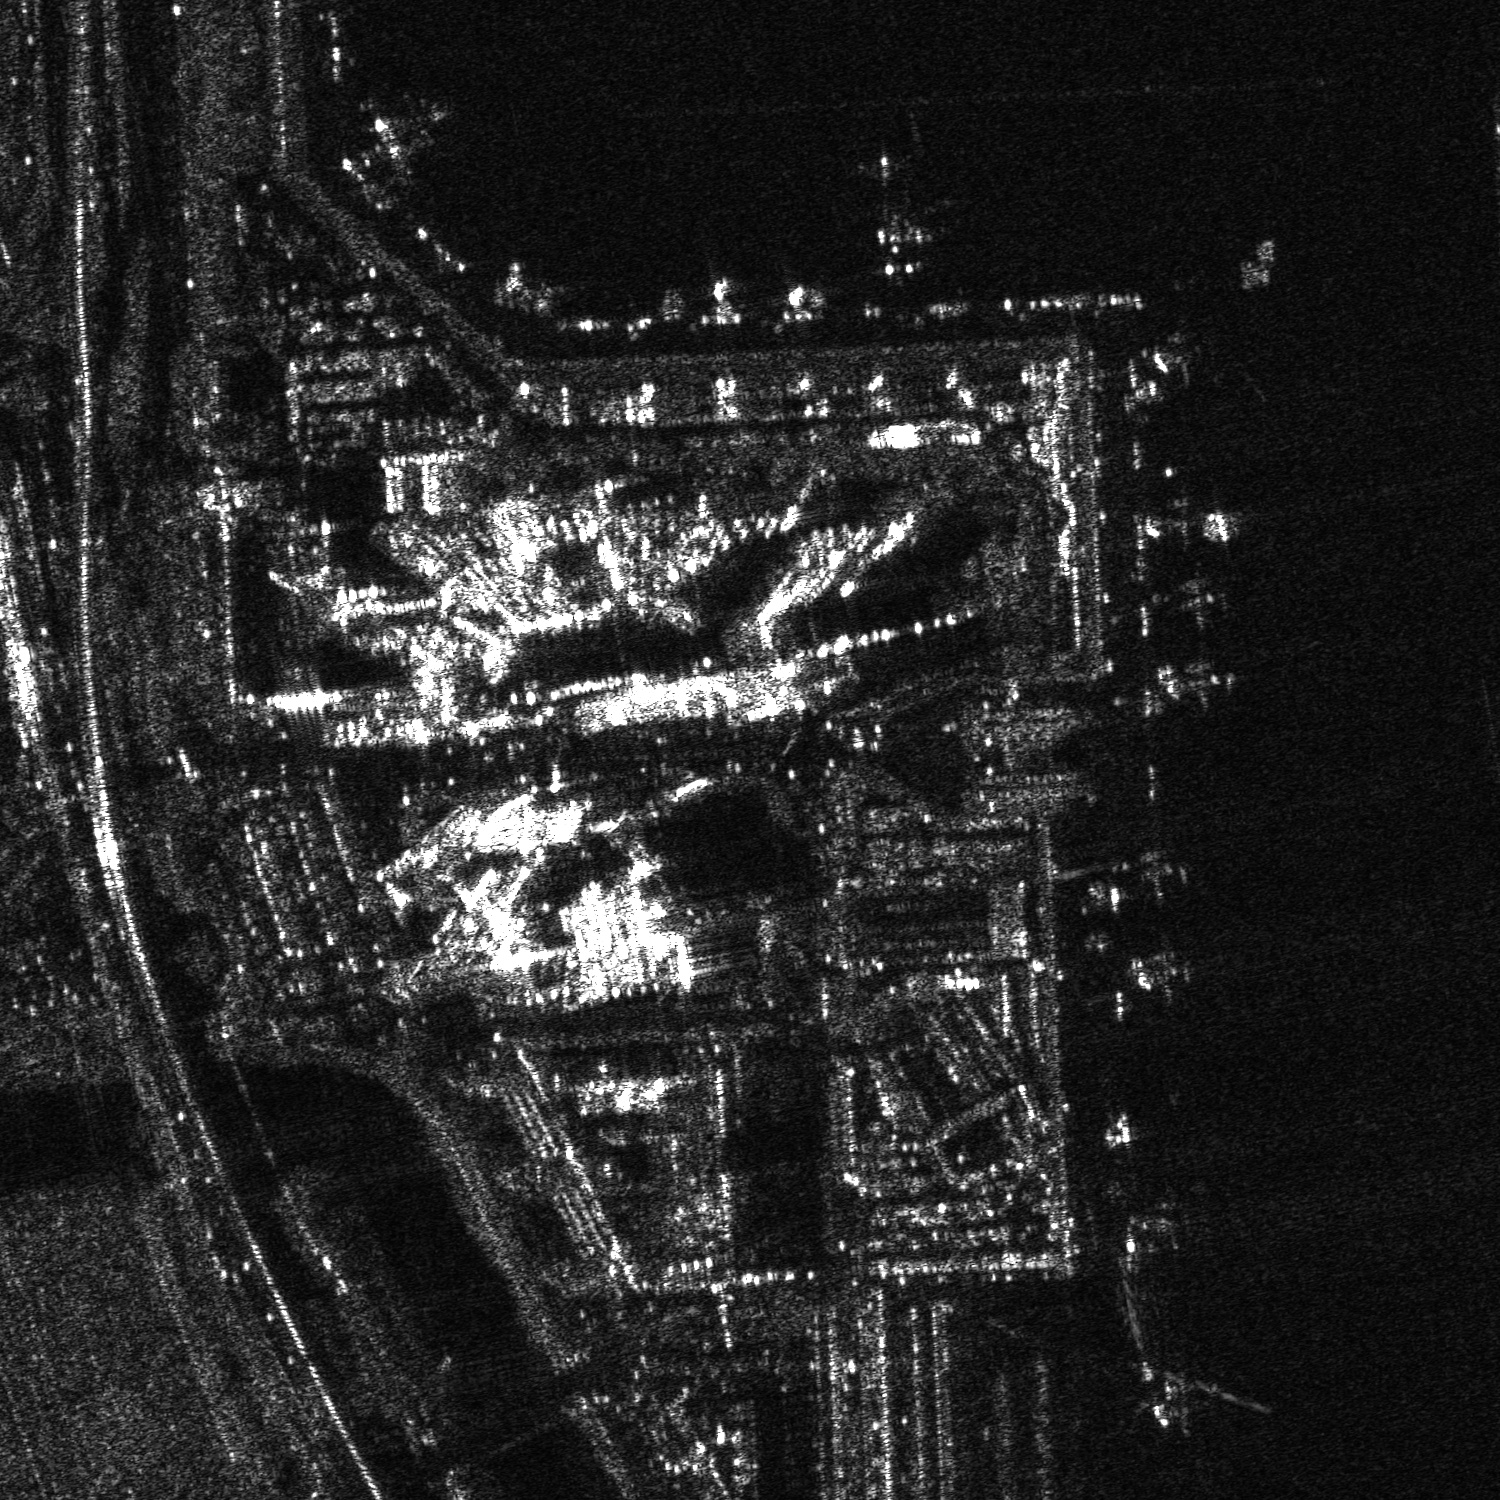A220: (352, 89, 455, 180), (1135, 1348, 1218, 1444), (1141, 478, 1247, 548), (1147, 650, 1247, 717), (1146, 573, 1245, 637), (1102, 843, 1198, 909), (1122, 931, 1201, 1010)
Boeing787: (860, 152, 941, 286)
